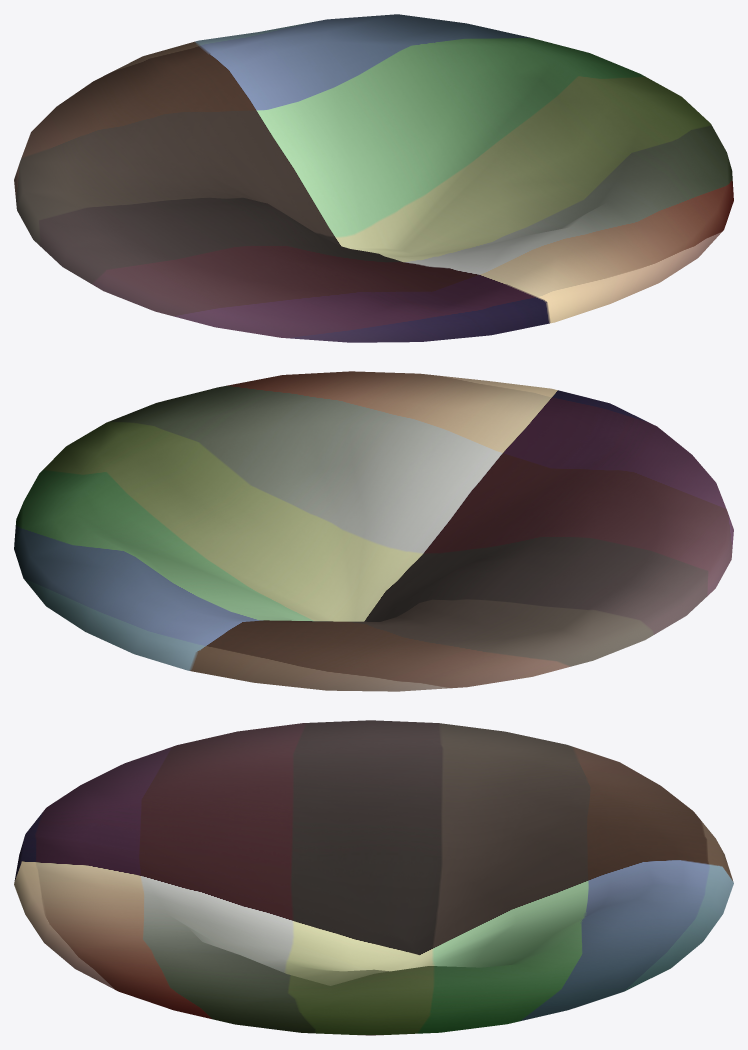
File: SM_Lake_ground_UPDATED_UV 1.fbx
The picture shows the model from 3 angles, top to bottom: view 1: azimuth 30°, elevation 25°; view 2: azimuth 150°, elevation 25°; view 3: azimuth 270°, elevation 25°; orthographic projection.
Parts seen in each view (by area): view 1: SM_Lake_ground_updateduv; view 2: SM_Lake_ground_updateduv; view 3: SM_Lake_ground_updateduv.
Boxes of the visible parts, x1,y1,x2,y2 form: SM_Lake_ground_updateduv: (14,14,733,342); SM_Lake_ground_updateduv: (14,371,733,691); SM_Lake_ground_updateduv: (14,720,733,1035).
Size of the model in its own units: 329 by 55.88 by 333.
1 material, 1 textured.
